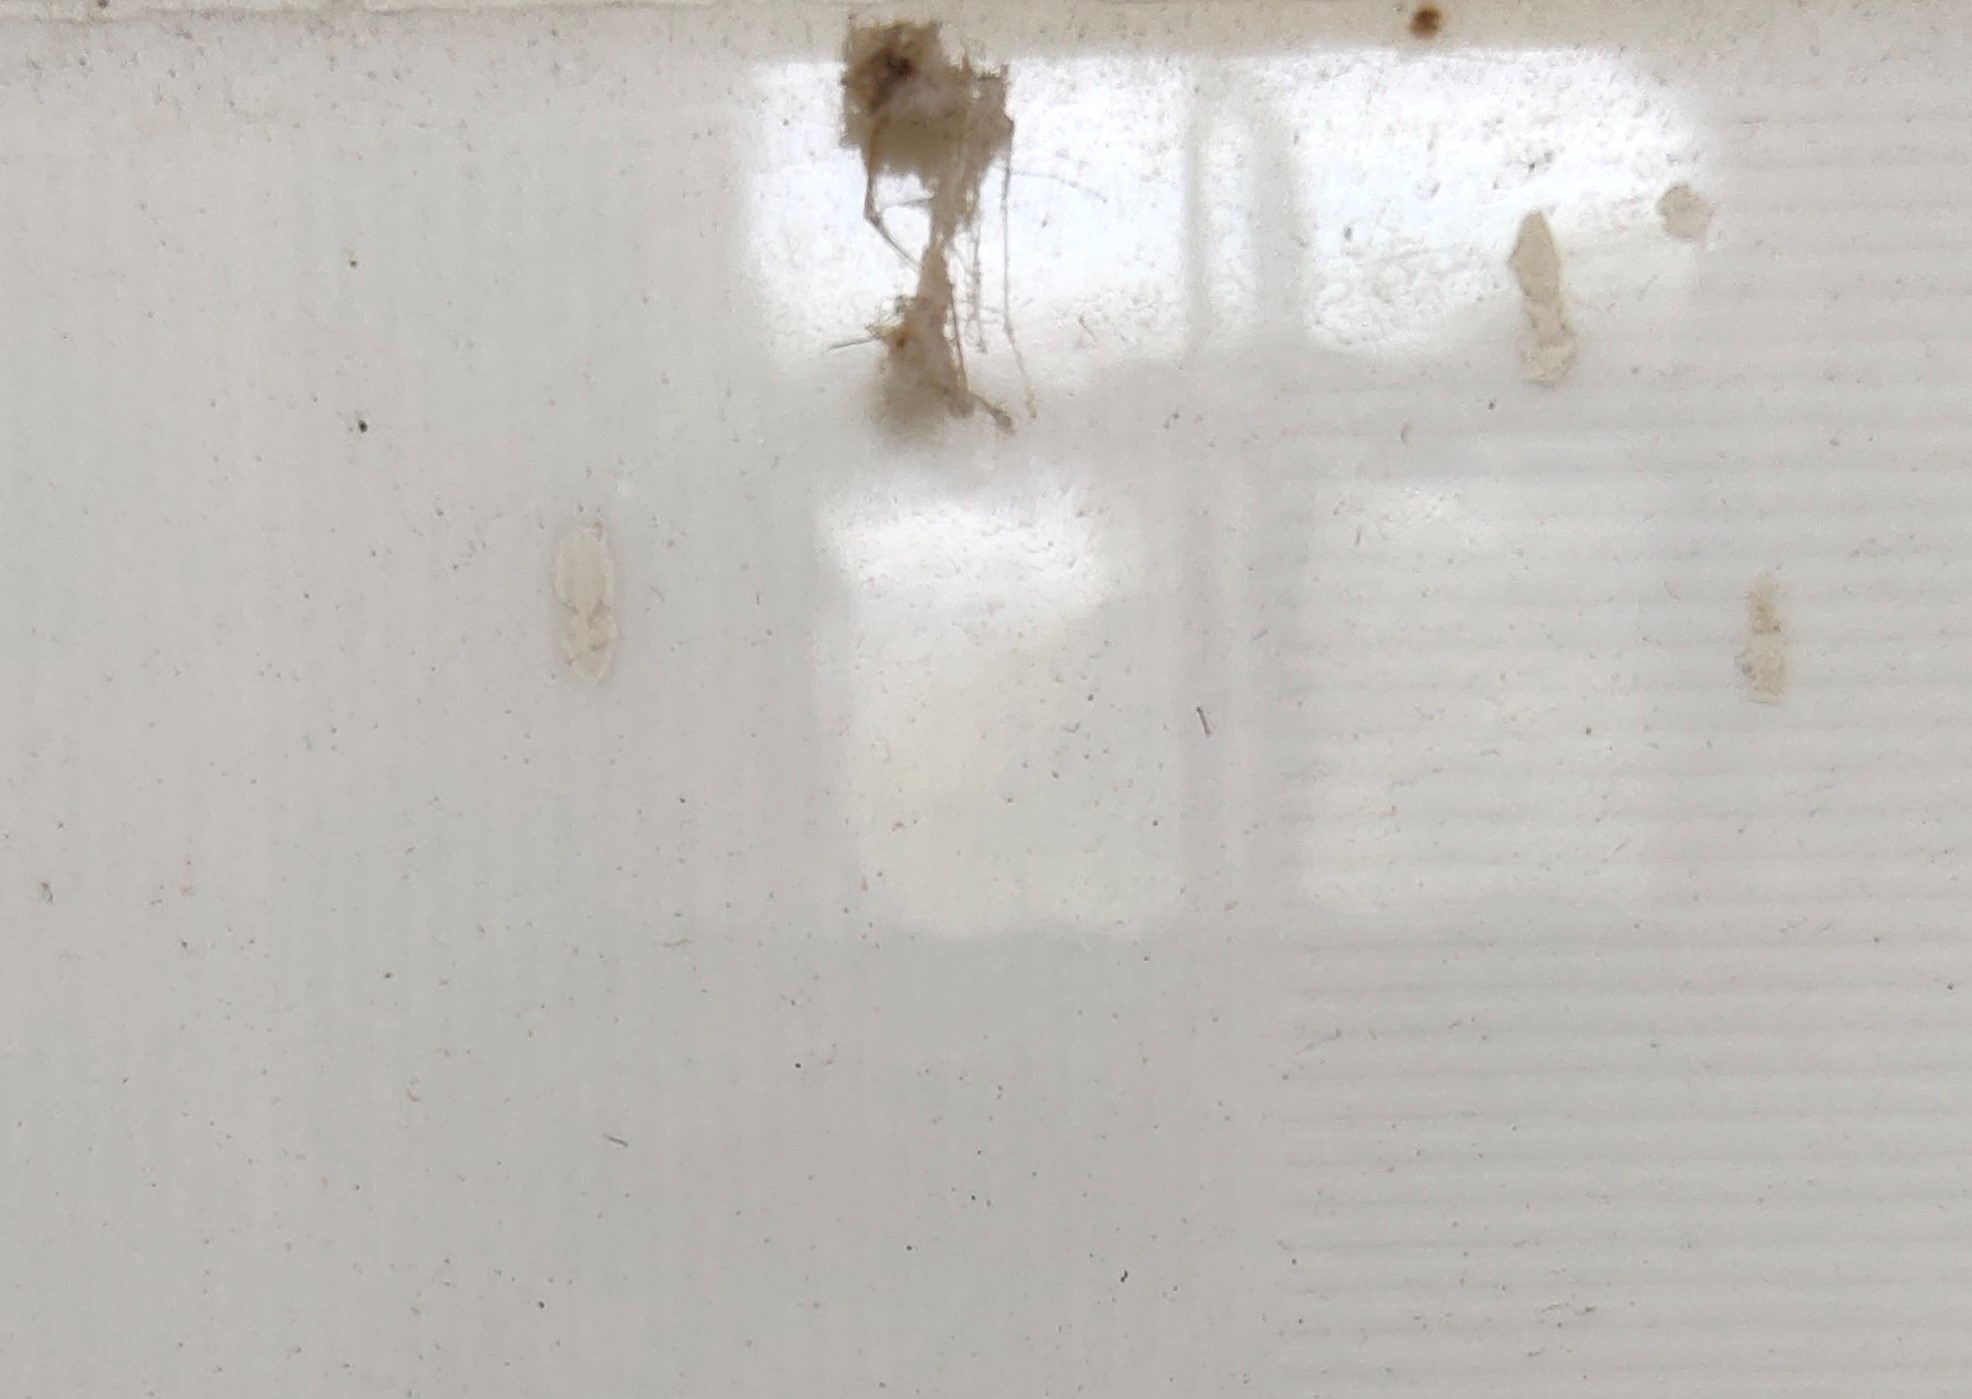grey spot: (826, 12, 1040, 436), (1507, 209, 1579, 391), (558, 521, 617, 678), (1736, 581, 1790, 699), (1654, 182, 1718, 242)
